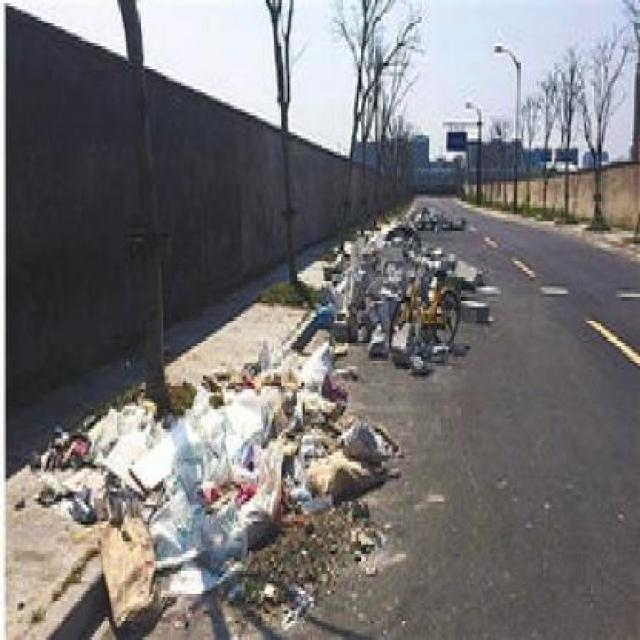garbage: (55, 377, 374, 608), (314, 208, 485, 382), (245, 317, 356, 400), (408, 194, 485, 270)
